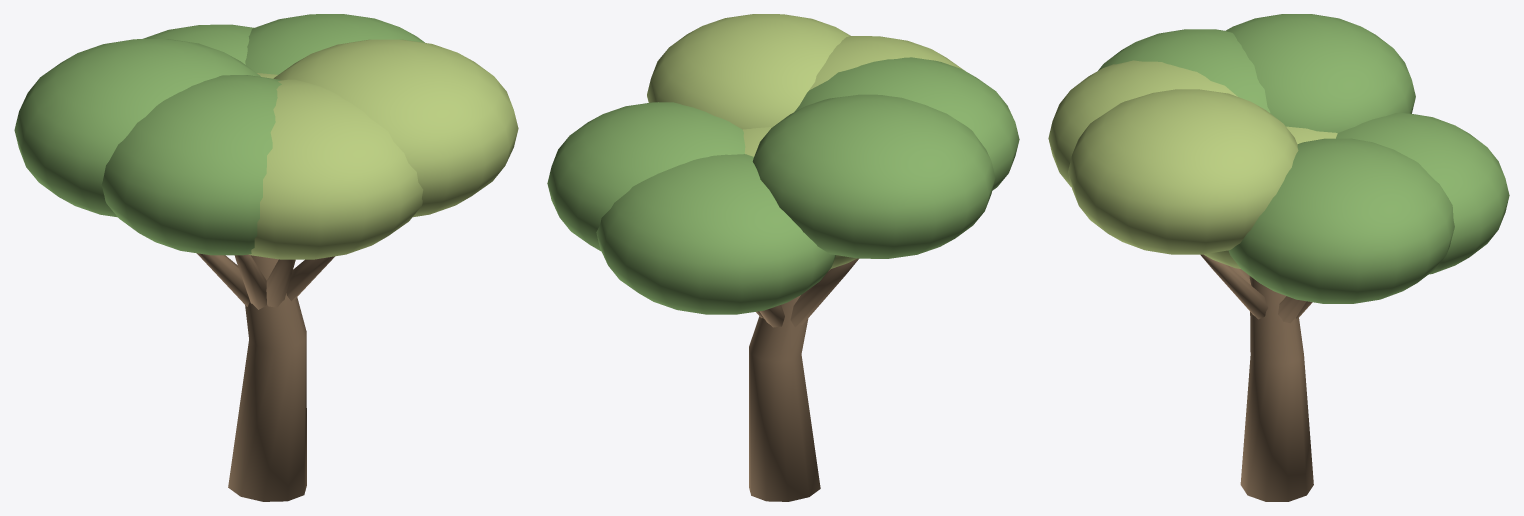
File: tree.glb
3 renders of one model, left to right at view 1: azimuth 30°, elevation 25°; view 2: azimuth 150°, elevation 25°; view 3: azimuth 270°, elevation 25°, orthographic. The views are drawn at different scales.
Parts seen in each view (by area): view 1: Canopy.001, Canopy.006, Canopy.003, Canopy.004, Trunk, Canopy.005, Canopy.002, Bough.004, Bough.001, Bough.006, Bough.003; view 2: Canopy.004, Canopy.002, Canopy.003, Canopy.005, Trunk, Canopy.001, Canopy.006, Bough.004, Canopy; view 3: Canopy.003, Canopy.005, Canopy.004, Trunk, Canopy.002, Canopy.006, Canopy.001, Bough.003, Canopy.
Part boxes in pixels (x1,y1,x2,y2): Canopy.001: [101, 75, 281, 255]; Canopy.006: [249, 79, 423, 259]; Canopy.003: [273, 39, 518, 217]; Canopy.004: [14, 39, 260, 217]; Trunk: [228, 255, 306, 501]; Canopy.005: [245, 14, 424, 74]; Canopy.002: [143, 24, 253, 64]; Bough.004: [197, 253, 249, 306]; Bough.001: [234, 254, 266, 309]; Bough.006: [266, 259, 295, 307]; Bough.003: [286, 256, 334, 301]; Canopy.004: [752, 94, 995, 258]; Canopy.002: [596, 154, 835, 314]; Canopy.003: [647, 14, 850, 129]; Canopy.005: [547, 102, 745, 251]; Trunk: [749, 295, 820, 501]; Canopy.001: [794, 57, 1019, 190]; Canopy.006: [805, 36, 964, 95]; Bough.004: [790, 258, 858, 327]; Canopy: [743, 127, 856, 269]; Canopy.003: [1068, 89, 1298, 254]; Canopy.005: [1228, 138, 1454, 303]; Canopy.004: [1225, 14, 1415, 133]; Trunk: [1240, 276, 1313, 501]; Canopy.002: [1336, 113, 1509, 274]; Canopy.006: [1048, 60, 1237, 186]; Canopy.001: [1098, 29, 1270, 112]; Bough.003: [1200, 254, 1267, 319]; Canopy: [1203, 126, 1337, 268].
Size of the model in its own units: 4.56 by 4.57 by 4.66.
